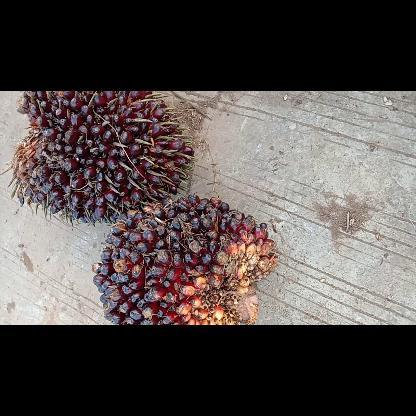TBS mentah: (0, 91, 194, 223), (90, 194, 276, 324)
